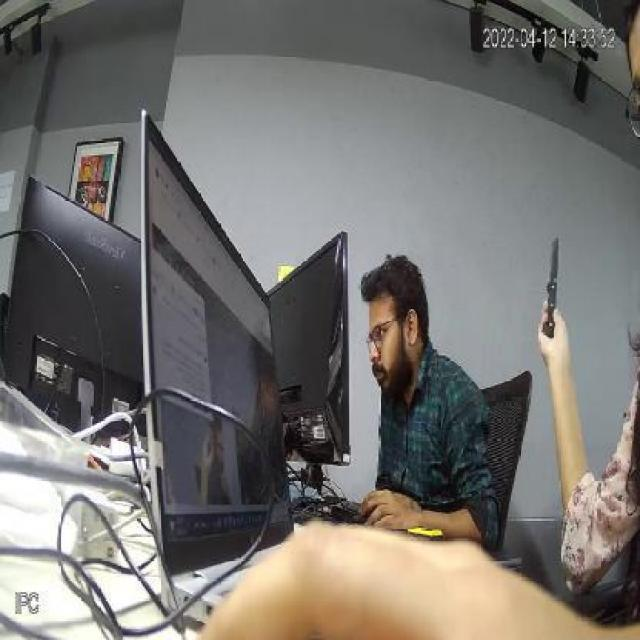-: (543, 229, 569, 348)
